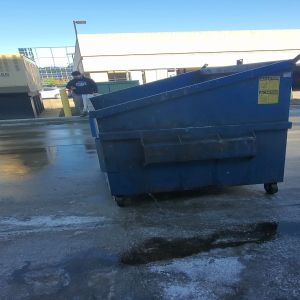Dumpster: (92, 59, 300, 209)
Person: (67, 69, 99, 94)
